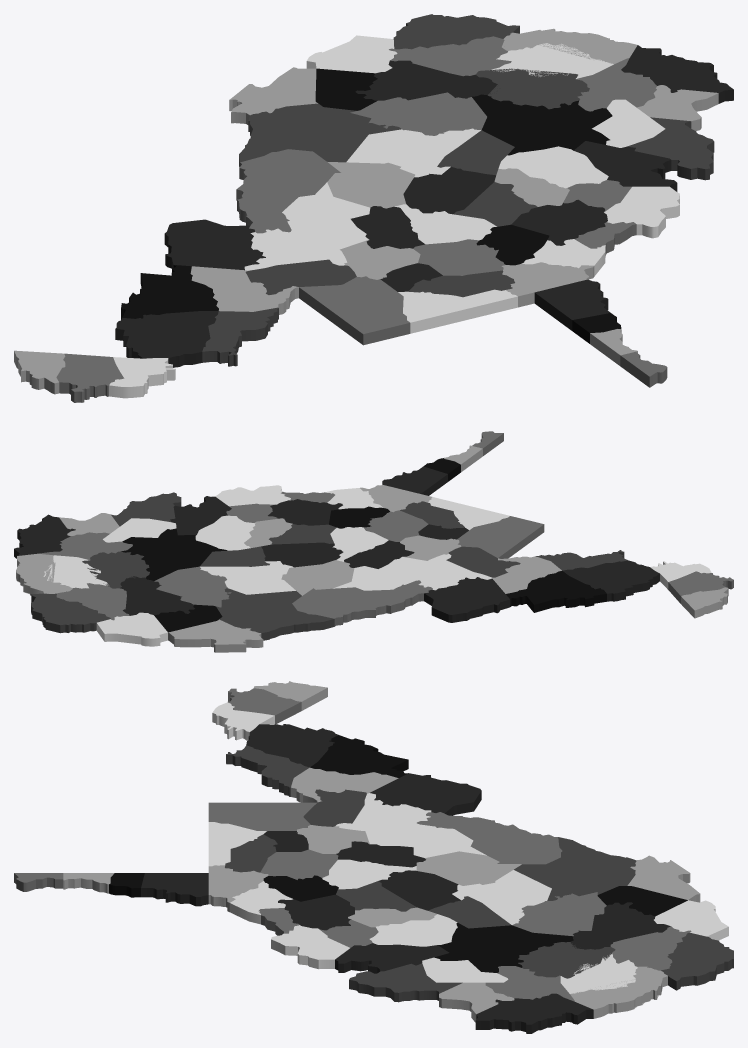
Rendered from West_Virginia_Counties_3D.fbx.
3 renders of one model, top to bottom at view 1: azimuth 30°, elevation 25°; view 2: azimuth 150°, elevation 25°; view 3: azimuth 270°, elevation 25°, orthographic. The views are drawn at different scales.
Visible parts, largest first — view 1: WV_Randolph_County_3D, WV_Greenbrier_County_3D, WV_Pocahontas_County_3D, WV_Kanawha_County_3D, WV_Preston_County_3D, WV_Hampshire_County_3D, WV_Pendleton_County_3D, WV_Fayette_County_3D, WV_Nicholas_County_3D, WV_Raleigh_County_3D, WV_Hardy_County_3D, WV_Monongalia_County_3D (+43 smaller); view 2: WV_Greenbrier_County_3D, WV_Pocahontas_County_3D, WV_Randolph_County_3D, WV_Pendleton_County_3D, WV_Kanawha_County_3D, WV_Hardy_County_3D, WV_Hampshire_County_3D, WV_Preston_County_3D, WV_Monroe_County_3D, WV_McDowell_County_3D, WV_Fayette_County_3D, WV_Nicholas_County_3D (+43 smaller); view 3: WV_Randolph_County_3D, WV_Greenbrier_County_3D, WV_Pocahontas_County_3D, WV_Kanawha_County_3D, WV_Wayne_County_3D, WV_Pendleton_County_3D, WV_McDowell_County_3D, WV_Fayette_County_3D, WV_Preston_County_3D, WV_Nicholas_County_3D, WV_Mason_County_3D, WV_Hampshire_County_3D (+43 smaller).
Boxes of the visible parts, box(x1,y1,x2,y2) form: WV_Randolph_County_3D: box(244, 182, 370, 270); WV_Greenbrier_County_3D: box(239, 103, 401, 167); WV_Pocahontas_County_3D: box(236, 149, 340, 233); WV_Kanawha_County_3D: box(472, 94, 612, 155); WV_Preston_County_3D: box(299, 276, 410, 345); WV_Hampshire_County_3D: box(115, 311, 218, 367); WV_Pendleton_County_3D: box(164, 219, 265, 270); WV_Fayette_County_3D: box(350, 92, 486, 135); WV_Nicholas_County_3D: box(346, 128, 480, 177); WV_Raleigh_County_3D: box(355, 60, 497, 100); WV_Hardy_County_3D: box(121, 265, 218, 319); WV_Monongalia_County_3D: box(398, 289, 517, 333); WV_Greenbrier_County_3D: box(216, 588, 334, 640); WV_Pocahontas_County_3D: box(292, 580, 432, 626); WV_Randolph_County_3D: box(333, 553, 492, 590); WV_Pendleton_County_3D: box(424, 577, 510, 622); WV_Kanawha_County_3D: box(121, 528, 227, 580); WV_Hardy_County_3D: box(506, 571, 606, 612); WV_Hampshire_County_3D: box(562, 560, 659, 601); WV_Preston_County_3D: box(457, 516, 544, 558); WV_Monroe_County_3D: box(168, 619, 263, 652); WV_McDowell_County_3D: box(31, 593, 110, 633); WV_Fayette_County_3D: box(154, 566, 231, 607); WV_Nicholas_County_3D: box(200, 561, 295, 594); WV_Randolph_County_3D: box(335, 793, 486, 857); WV_Greenbrier_County_3D: box(514, 837, 636, 900); WV_Pocahontas_County_3D: box(417, 812, 562, 864); WV_Kanawha_County_3D: box(434, 922, 573, 972); WV_Wayne_County_3D: box(475, 993, 593, 1033); WV_Pendleton_County_3D: box(370, 773, 481, 815); WV_McDowell_County_3D: box(661, 932, 733, 990); WV_Fayette_County_3D: box(512, 892, 606, 936); WV_Preston_County_3D: box(208, 802, 316, 830); WV_Nicholas_County_3D: box(452, 870, 551, 924); WV_Mason_County_3D: box(349, 963, 462, 1002); WV_Hampshire_County_3D: box(246, 724, 338, 767).
Bounding box in the file's own units: 787 × 10 × 697.
